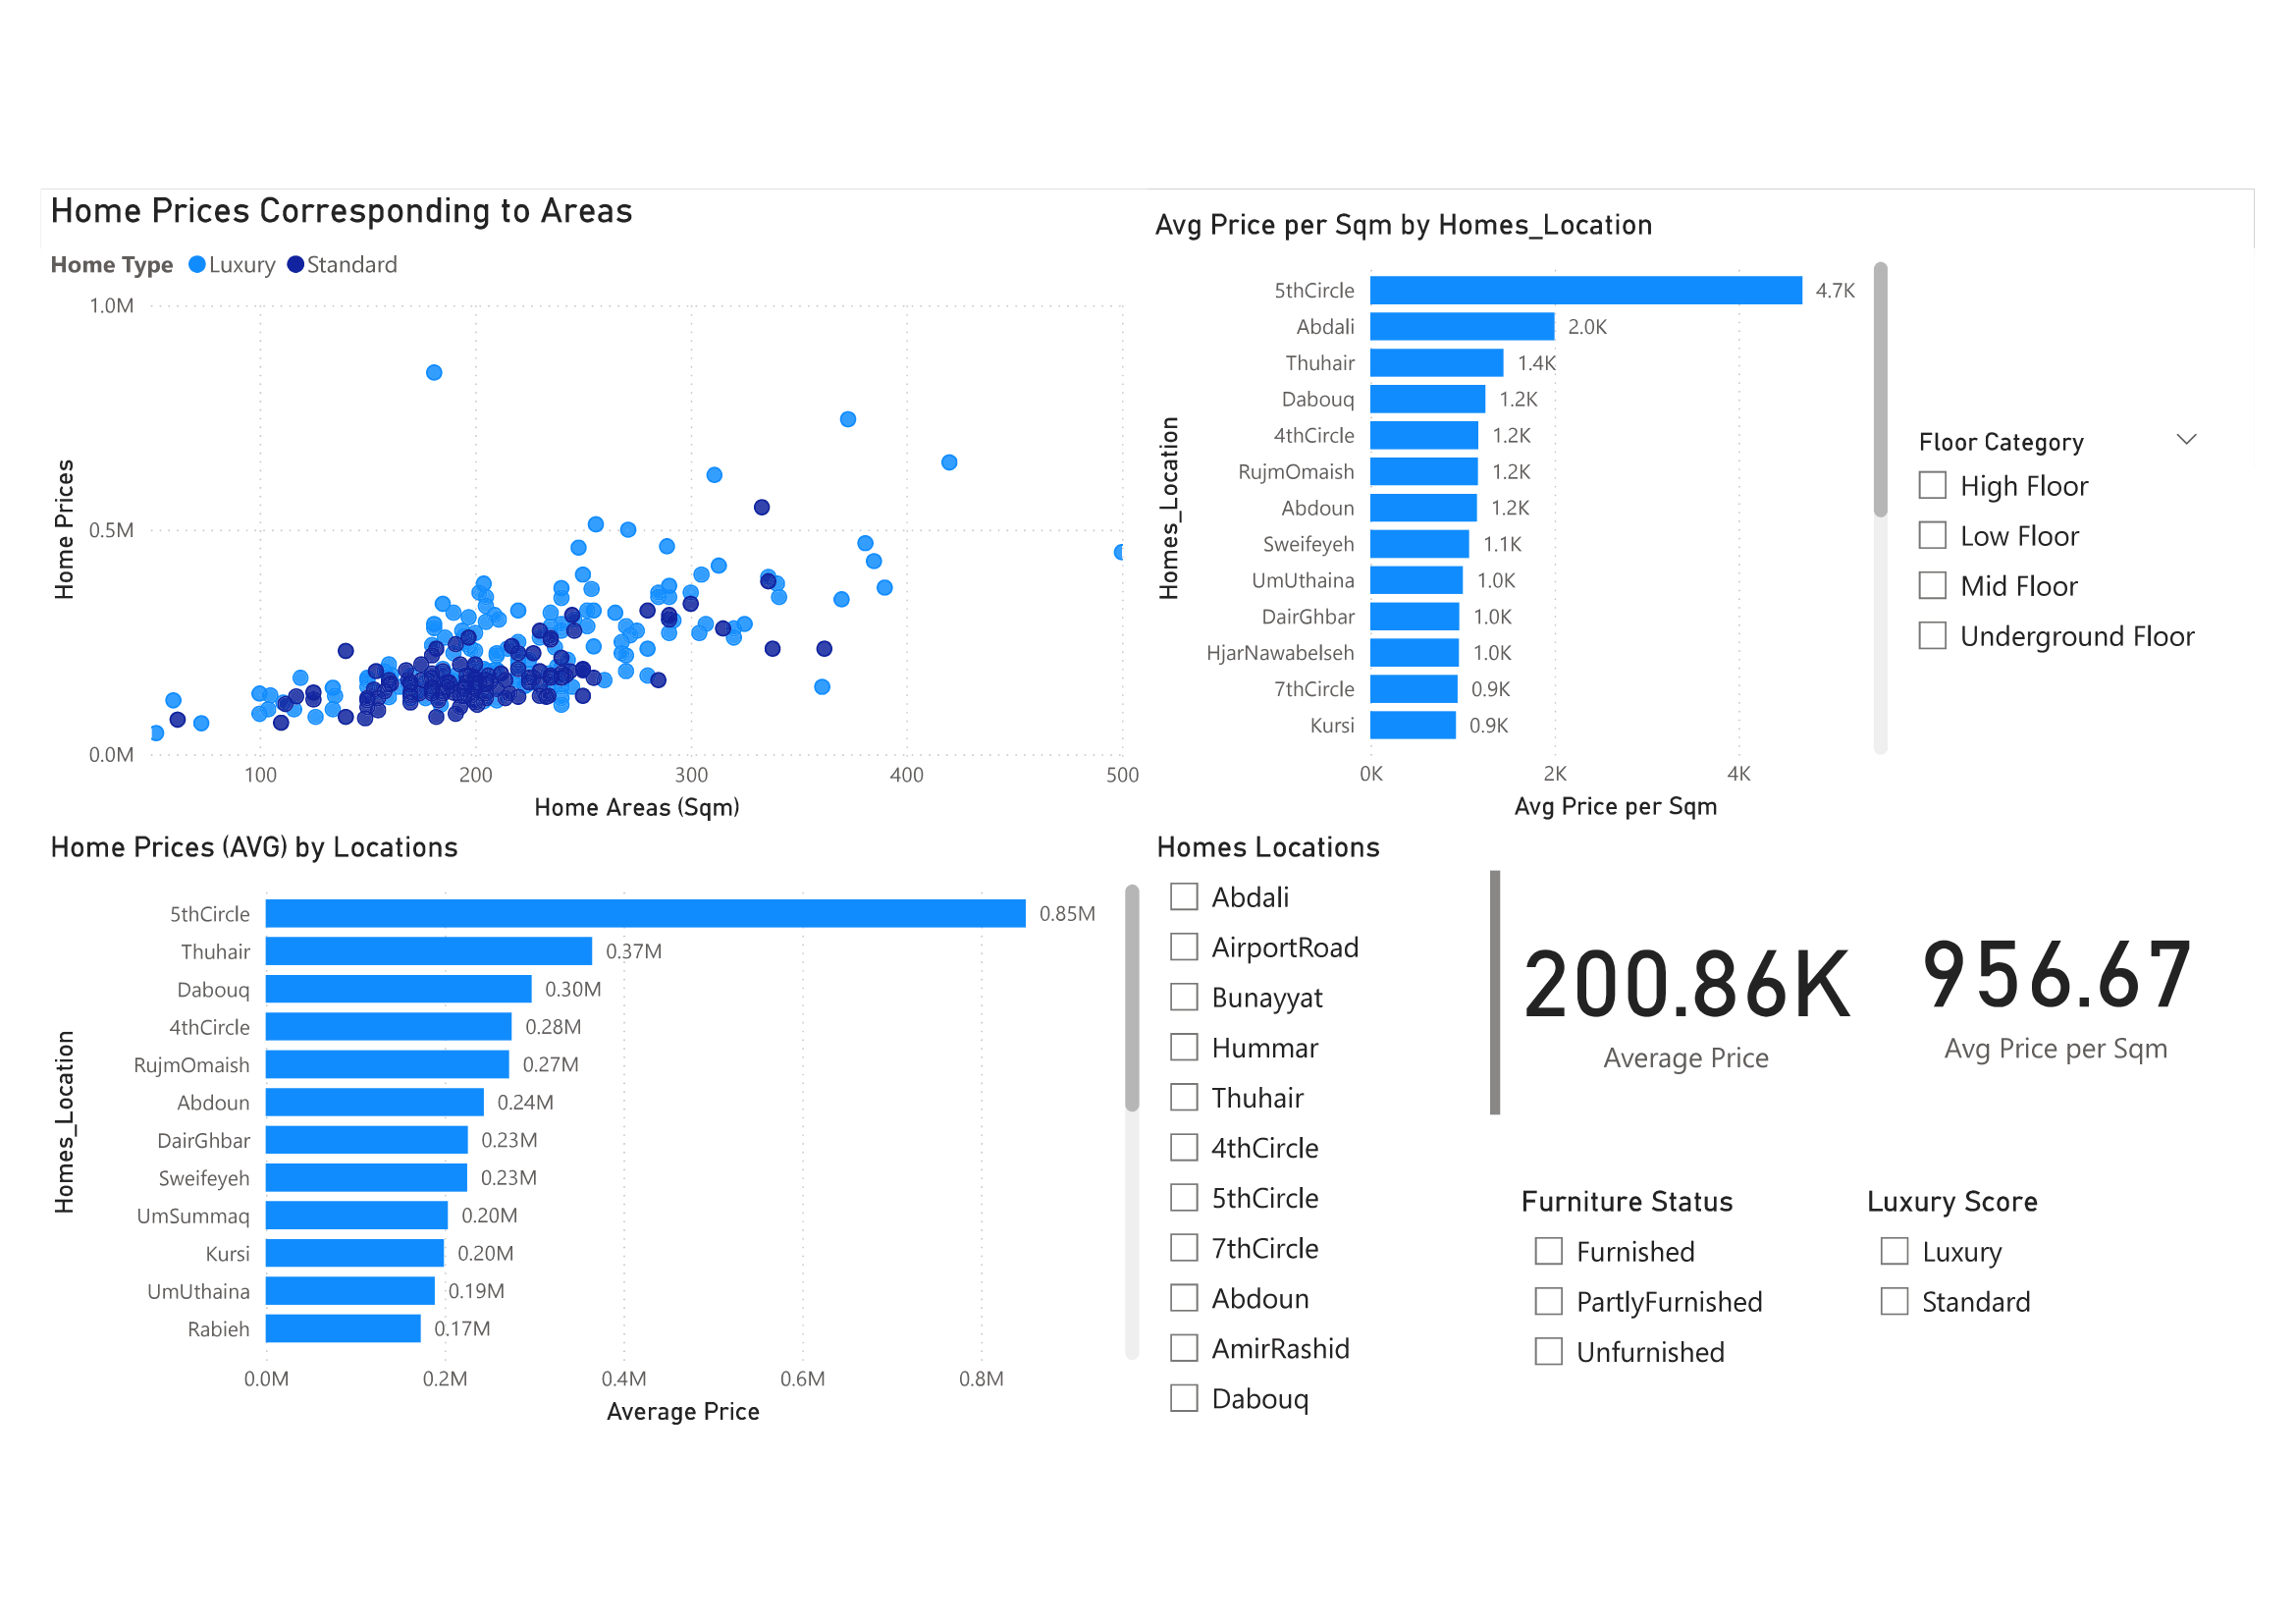

The page's visual inventory and layout, read from the dashboard file:
{"tool":"powerbi","page":{"name":"Property","canvas":[1280,720],"ordinal":0},"visuals":[{"type":"scatterChart","title":"Home Prices Corresponding to Areas","fields":{"Y":["Sheet1.Homes_Price"],"X":["Sheet1.Homes_AreaSqm"],"Series":["Sheet1.Luxury Score"]},"box":[0,0,640,370],"z":0},{"type":"clusteredBarChart","title":"Home Prices (AVG) by Locations","fields":{"Category":["Sheet1.Homes_Location"],"Y":["Sheet1.Average Price"]},"box":[0,370,640,350],"z":1000},{"type":"clusteredBarChart","fields":{"Category":["Sheet1.Homes_Location"],"Y":["Sheet1.Avg Price per Sqm"]},"box":[639.5,9.6,433.6,360.9],"z":2000},{"type":"slicer","title":"Homes Locations","fields":{"Values":["Sheet1.Homes_Location"]},"box":[640,370,211.4,350],"z":3000},{"type":"slicer","title":"Furniture Status","fields":{"Values":["Sheet1.Homes_IsFurnished"]},"box":[850.8,575,200.3,145.5],"z":4000},{"type":"slicer","title":"Luxury Score","fields":{"Values":["Sheet1.Luxury Score"]},"box":[1051.1,575,229.2,91.9],"z":5000},{"type":"card","fields":{"Values":["Sheet1.Average Price"]},"box":[843.9,376,215.4,174.3],"z":6000},{"type":"card","fields":{"Values":["Sheet1.Avg Price per Sqm"]},"box":[1051.1,370.5,229.2,174.3],"z":7000},{"type":"slicer","fields":{"Values":["Sheet1.Floor Category"]},"box":[1073.1,133.1,186.6,160.5],"z":8000}]}

Visuals, with their boxes on the page's 1280x720 design canvas (x1, y1, x2, y2). These are canvas units, not pixel positions in the 2296x1624 screenshot, which may show the page scaled, cropped or inside an application window:
"Home Prices Corresponding to Areas" scatterChart: 0, 0, 640, 370
"Home Prices (AVG) by Locations" clusteredBarChart: 0, 370, 640, 720
clusteredBarChart - Sheet1.Homes_Location x Sheet1.Avg Price per Sqm: 640, 10, 1073, 370
"Homes Locations" slicer: 640, 370, 851, 720
"Furniture Status" slicer: 851, 575, 1051, 720
"Luxury Score" slicer: 1051, 575, 1280, 667
card - Sheet1.Average Price: 844, 376, 1059, 550
card - Sheet1.Avg Price per Sqm: 1051, 370, 1280, 545
slicer - Sheet1.Floor Category: 1073, 133, 1260, 294
